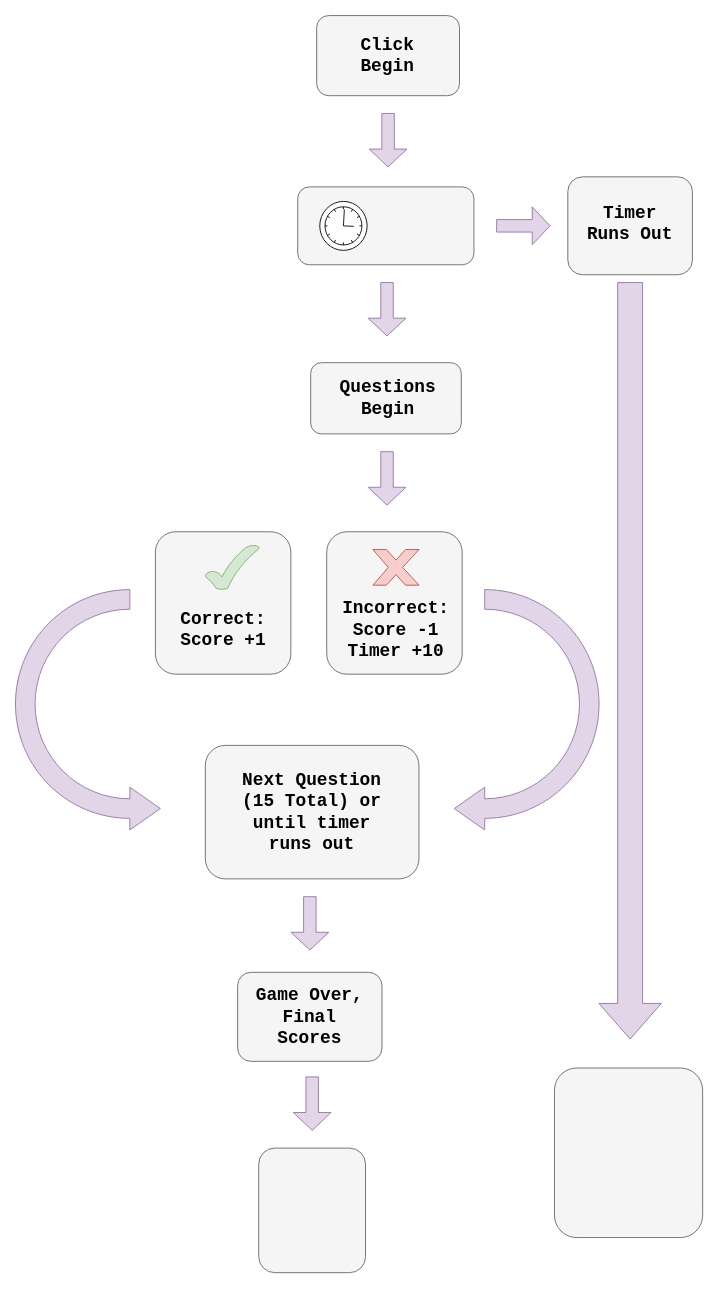
Some shapes in this 719 by 1289 pixel diagram are drawn without their labels. Here are the shapes that lost their labels. From the top down, the centre of each, then its label:
At [411,225]: "Timer Begins".
At [628,1152]: "You Lose, Try again? Display Score".
At [312,1210]: "Initials and leader board".
